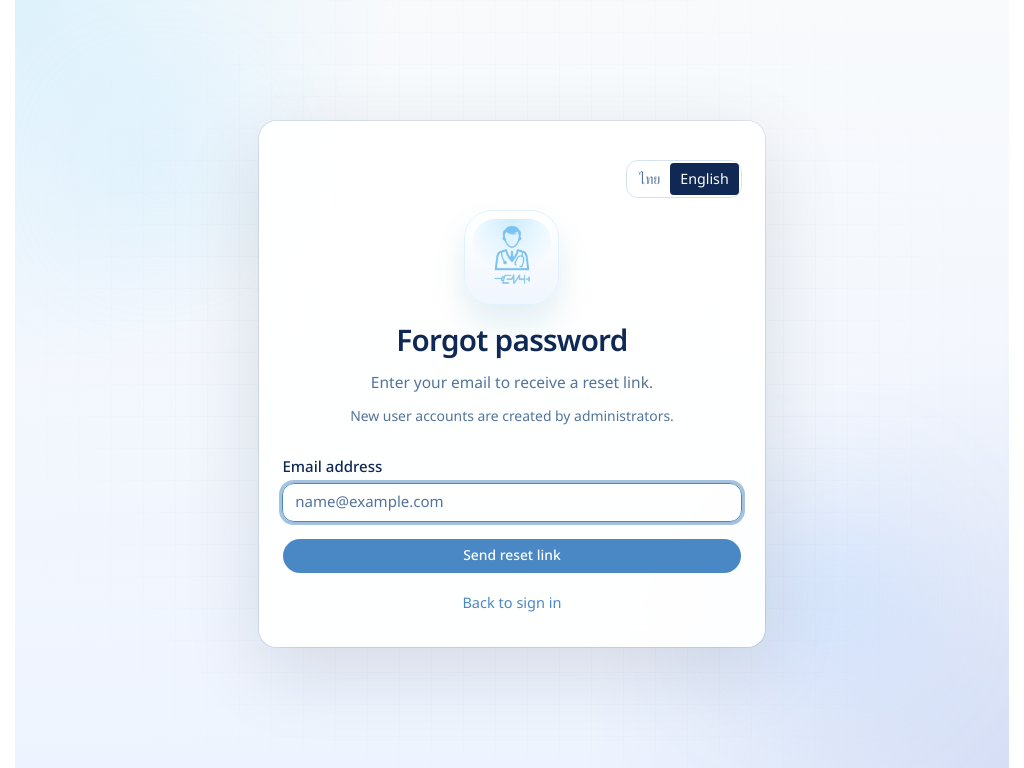
it: ForgotPasswordClientPage › shows a privacy-safe success message after submitting
The image size is (1024, 768).
Step 1. Type "doctor@example.com" into the field labelled "Email address" → (512,503), box [282,483,742,522]
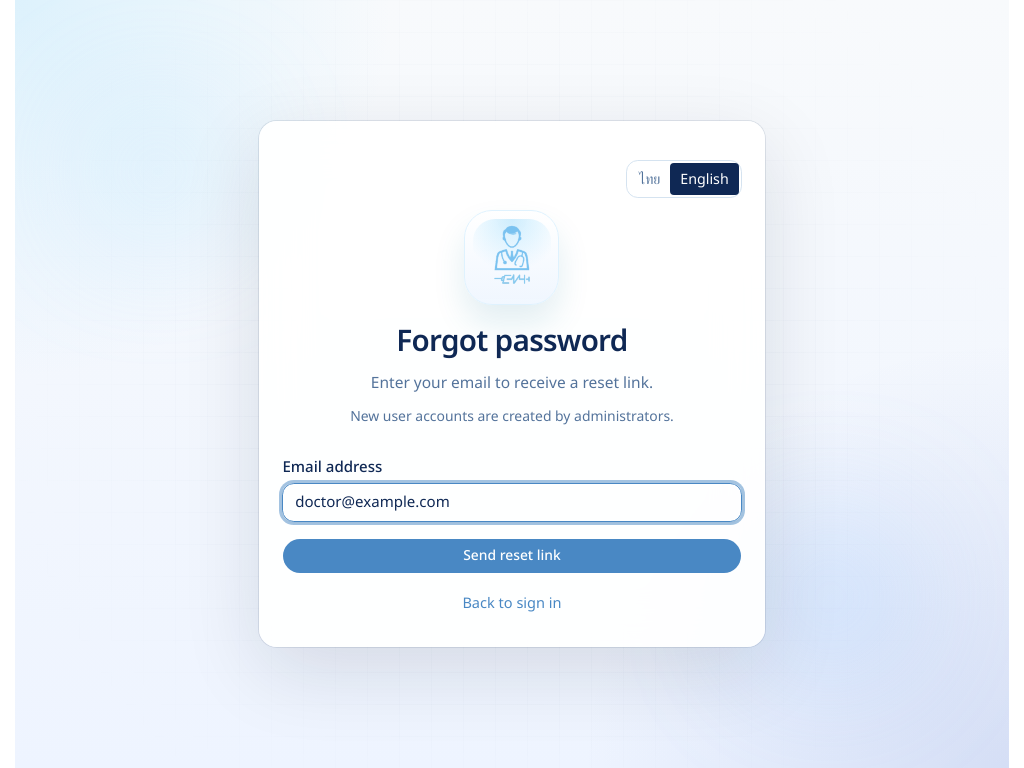
Step 2. Click the button "Send reset link" → (512,556), box [282,538,742,574]
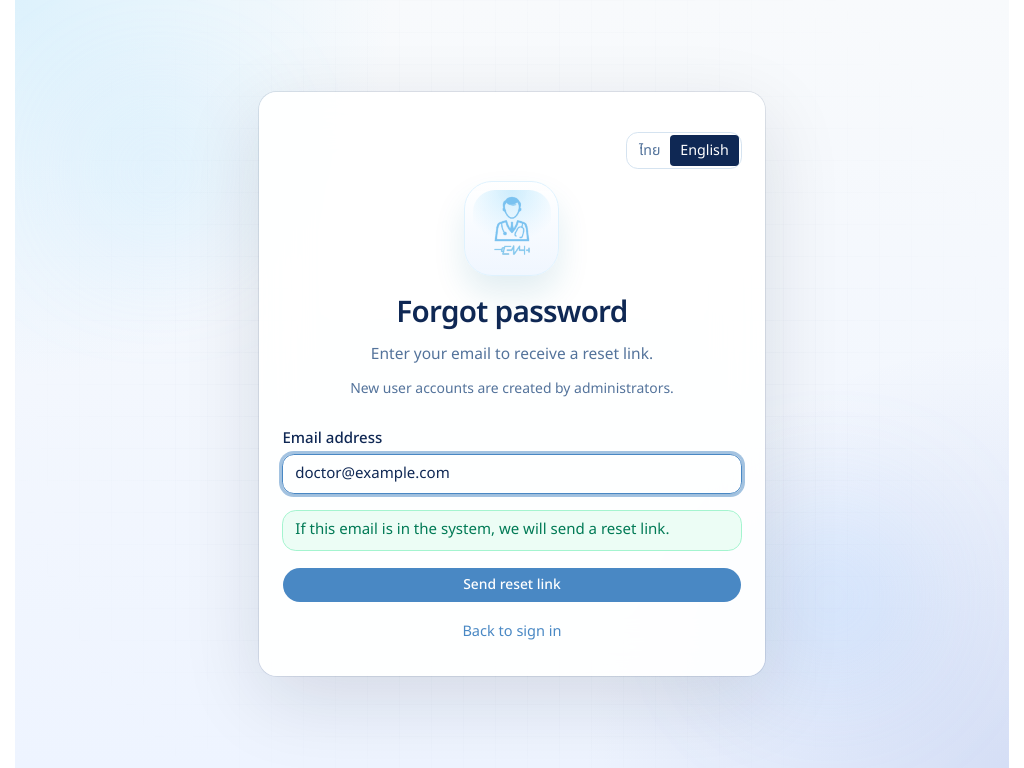
Result: the text "If this email is in the system, we will send a reset link." is shown at [282,510,742,551]
